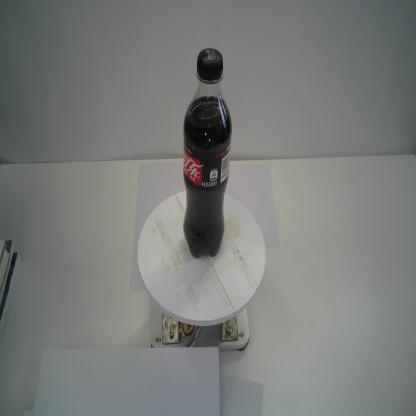Drink: (181, 44, 233, 260)
